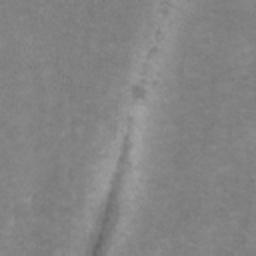Finishing roll printing: (88, 115, 136, 256), (147, 46, 163, 58), (133, 86, 146, 100)
